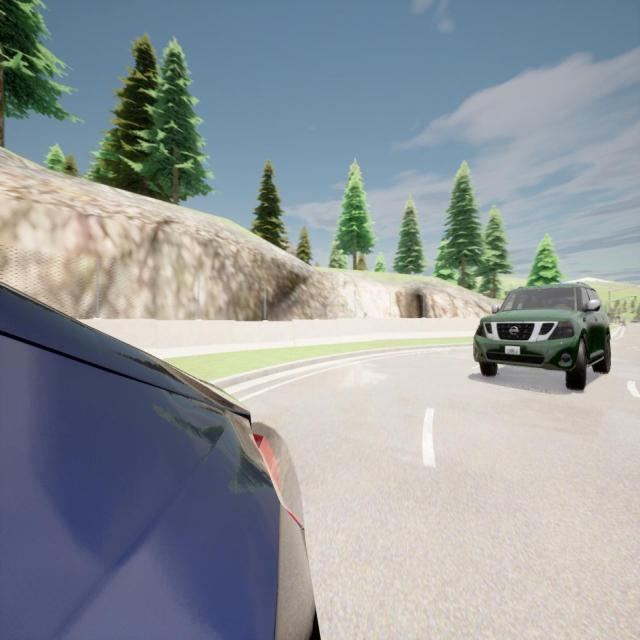Vehicle: (0, 282, 321, 640), (473, 282, 611, 389)
